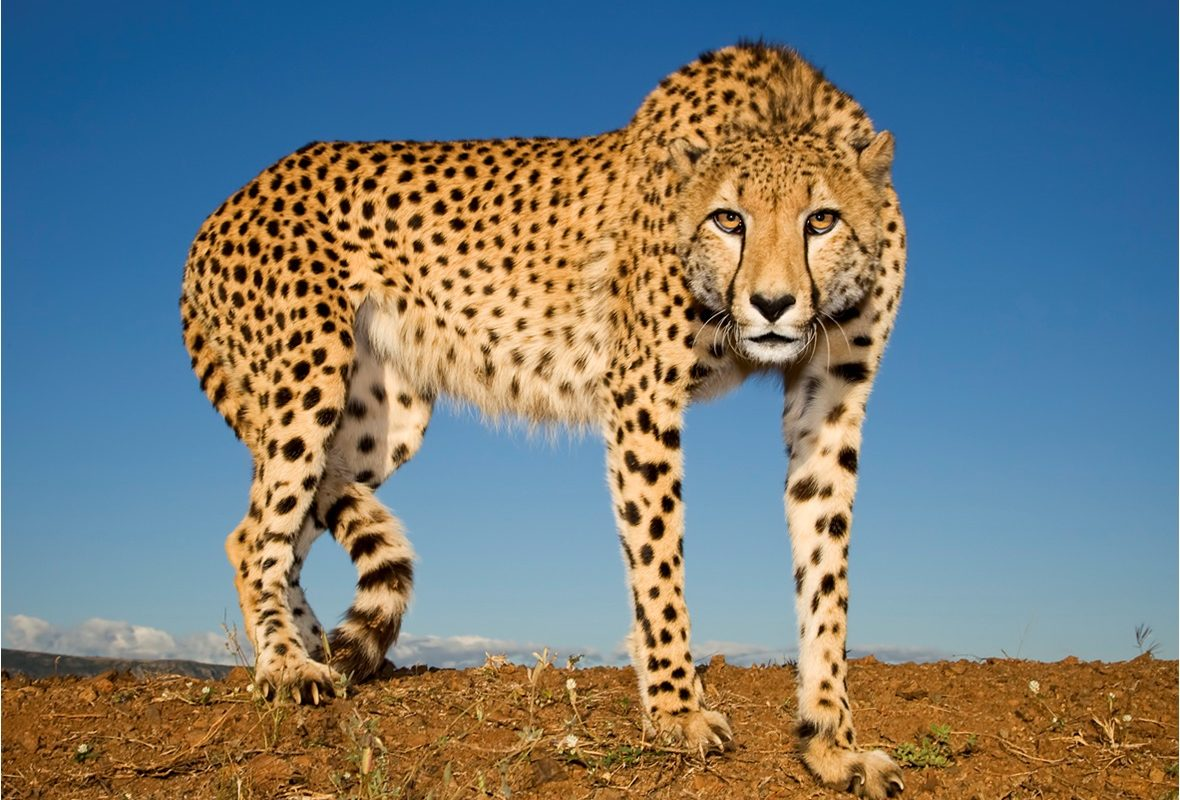cheetah: (651, 116, 914, 372)
